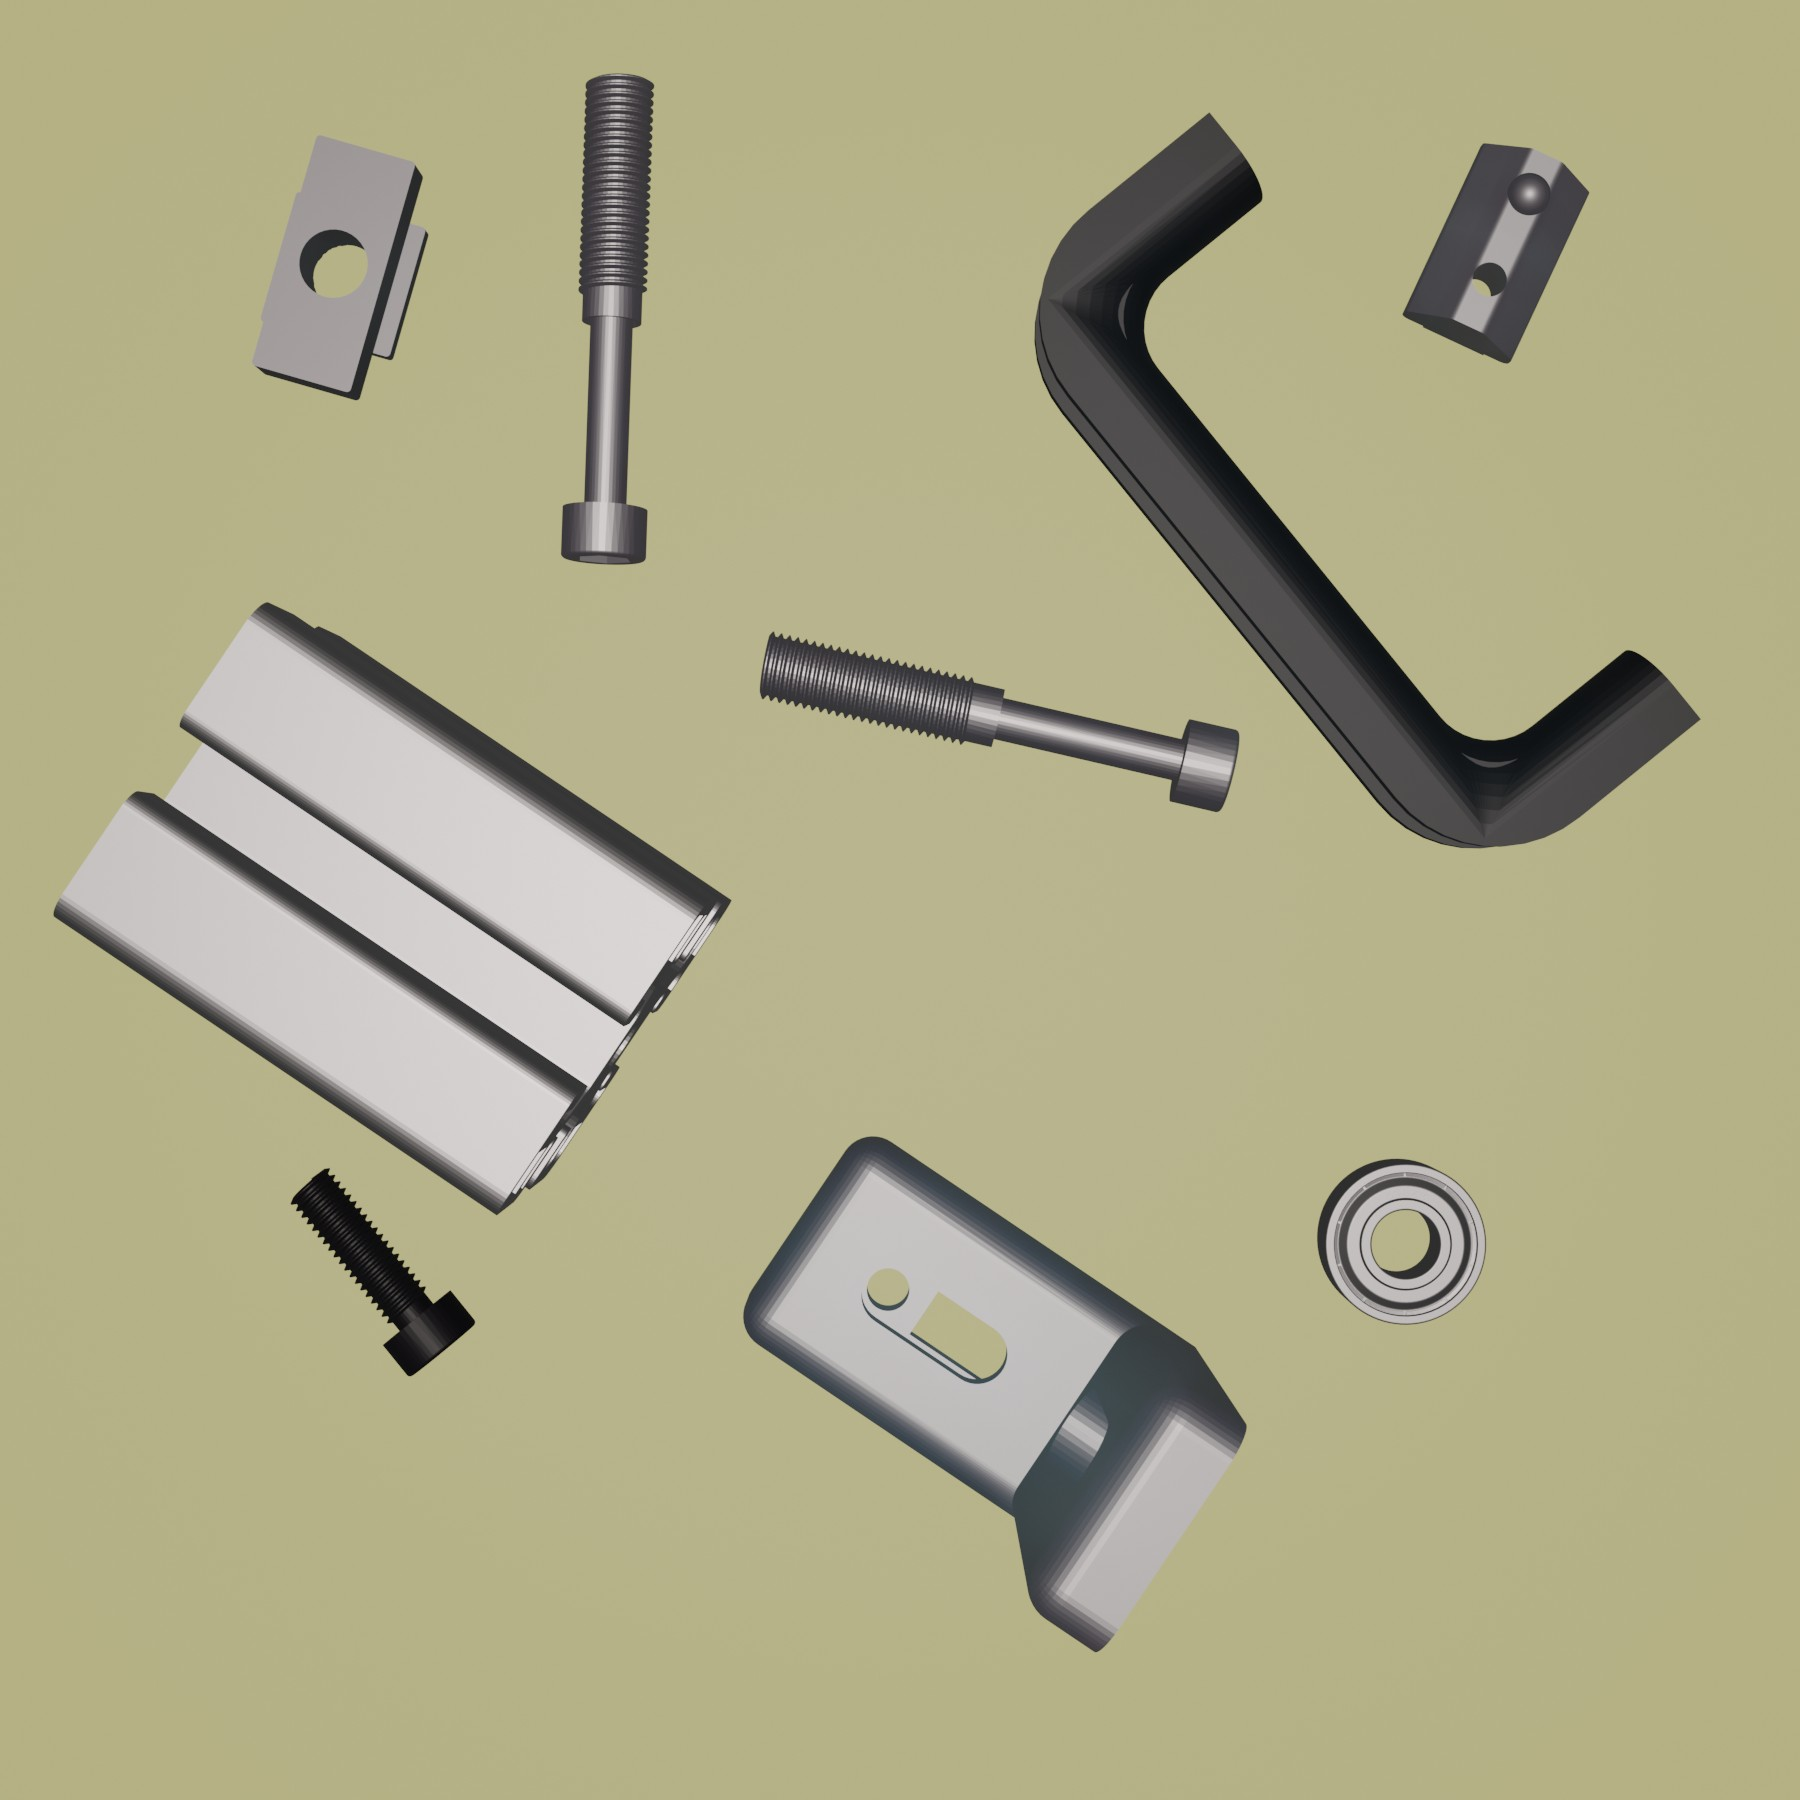Aluminium Extension: (49, 597, 730, 1221)
Ball Bearing: (1315, 1154, 1490, 1327)
Multiwinkel: (743, 1132, 1246, 1653)
Pull Handle: (1030, 105, 1699, 851)
Shoulder Socket Head Cap Screw: (757, 626, 1241, 814), (559, 68, 661, 569)
Socket Head Cap Screw: (288, 1165, 476, 1378)
T Nut Square: (247, 130, 432, 405)
T Spring Nut: (1401, 138, 1591, 366)
